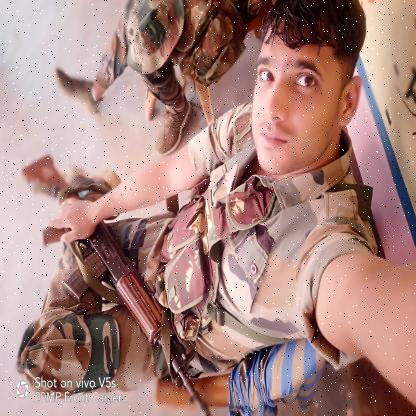rifle: (19, 152, 212, 416)
